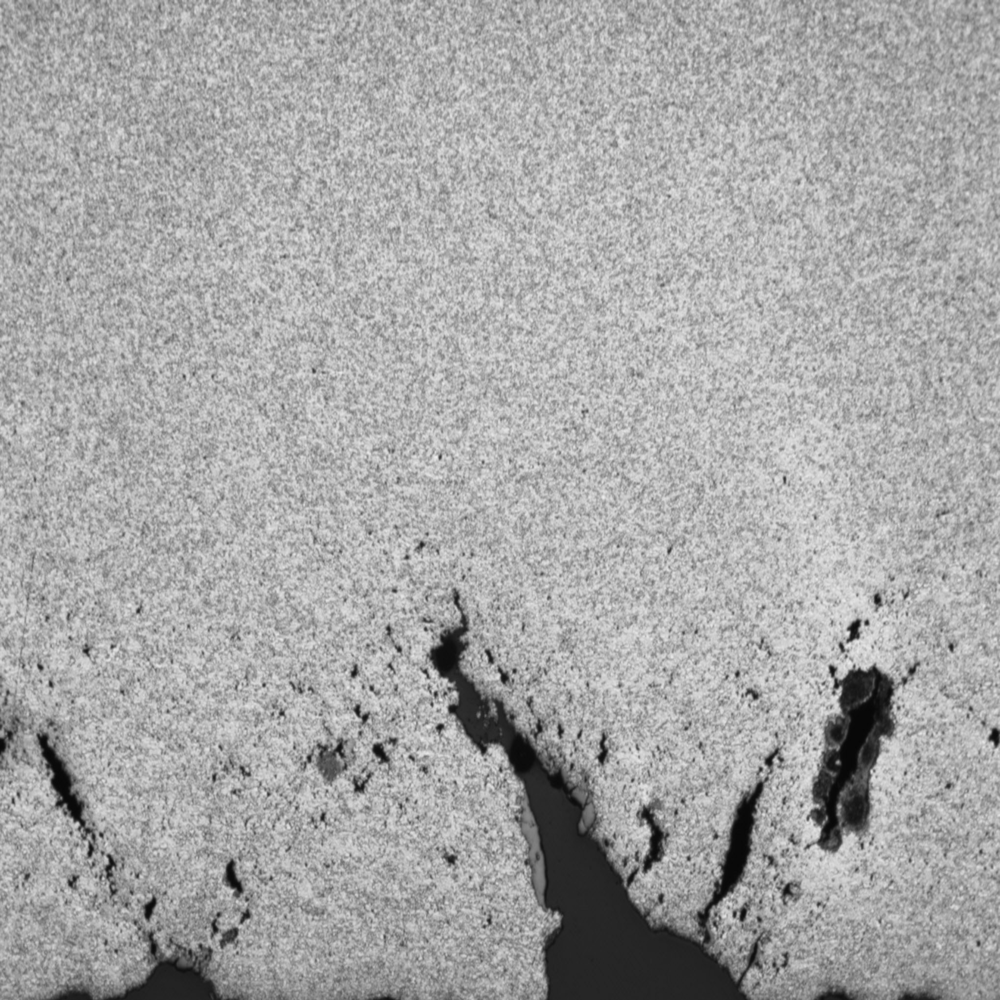crack: (361, 582, 769, 1000), (1, 711, 291, 997), (794, 612, 914, 865)
